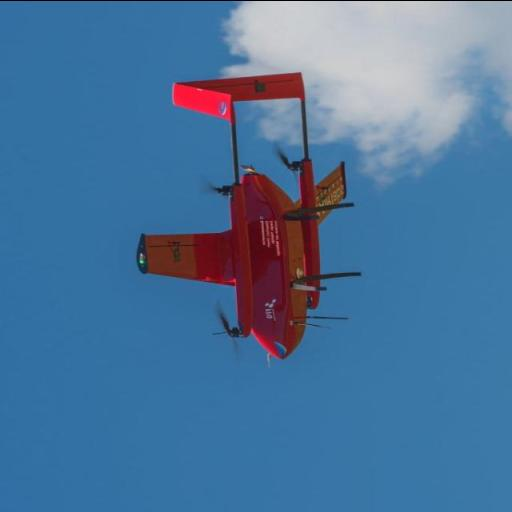uav: (138, 60, 368, 368)
